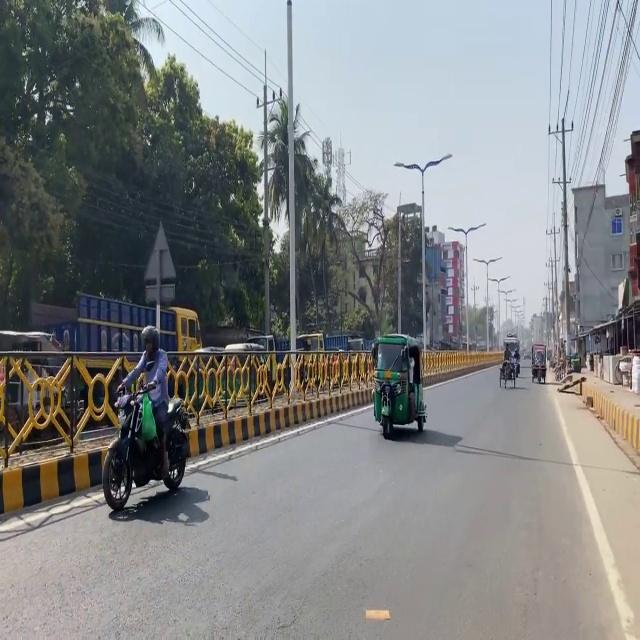Construction-barrier: (0, 445, 107, 514)
Fallen-tree: (101, 382, 192, 510), (499, 356, 519, 388), (531, 360, 546, 383), (553, 361, 564, 381)
Garbage-bin: (114, 325, 170, 475)
Pole: (0, 347, 505, 516)
Pothole: (554, 368, 639, 638)
Traffic-cone: (45, 291, 202, 410), (369, 333, 427, 439)
